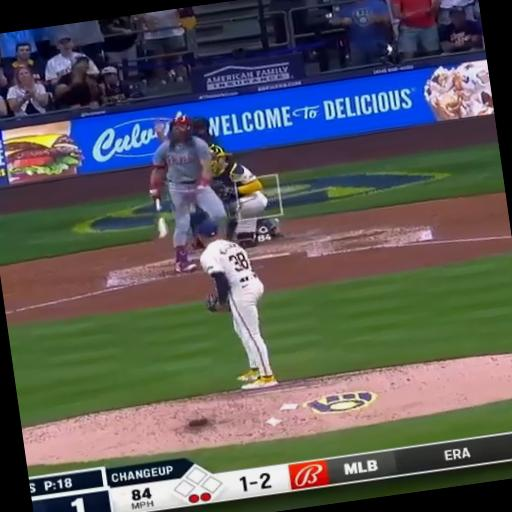bat: (154, 198, 168, 238)
